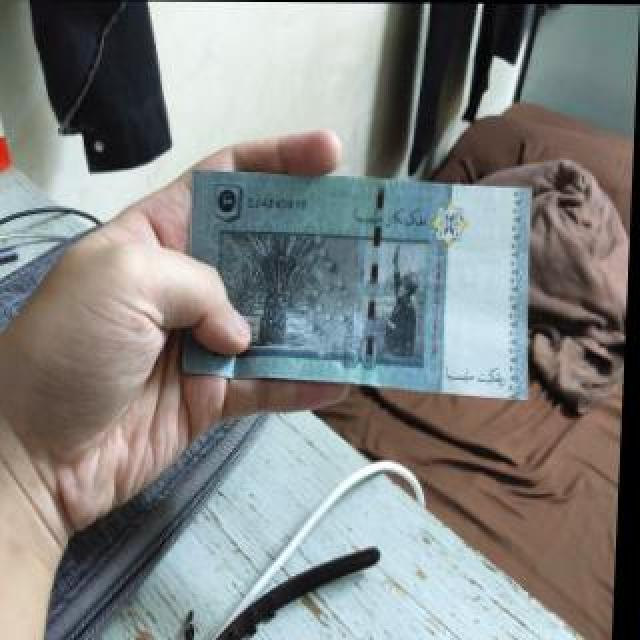50 Ringgit: (176, 162, 545, 410)
